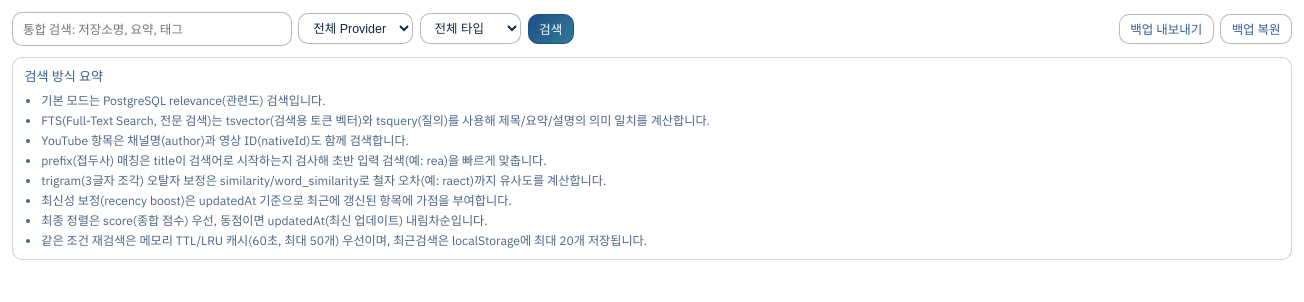
UnifiedSearchFeatureEntry › shows validation message for empty query
Click the button "검색". click: (551, 29)
box: [528,14,574,44]
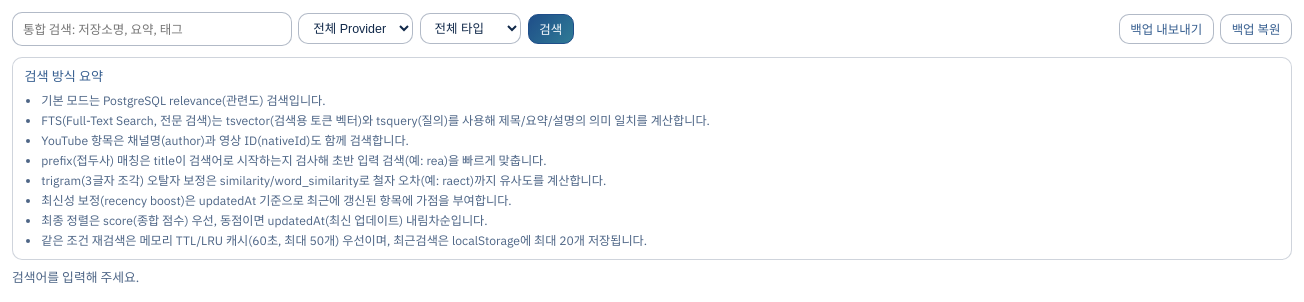
Check: the text "검색어를 입력해 주세요." is shown, box [12,269,139,286]
